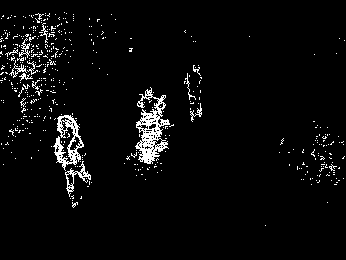person: (53, 113, 92, 210), (184, 61, 204, 124)
